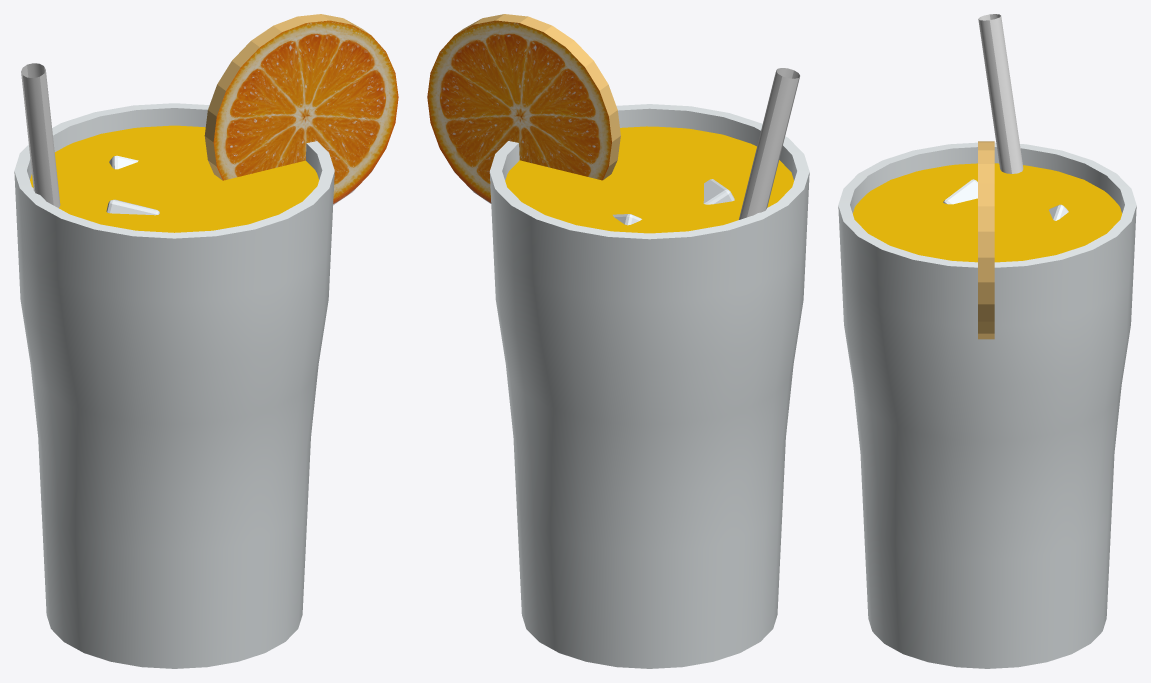
The model's file is glass_orange.fbx.
3 renders of one model, left to right at view 1: azimuth 30°, elevation 25°; view 2: azimuth 150°, elevation 25°; view 3: azimuth 270°, elevation 25°, orthographic. The views are drawn at different scales.
Parts seen in each view (by area): view 1: glass, deco_orange, smoothie, straw, ice; view 2: glass, deco_orange, smoothie, straw, ice; view 3: glass, smoothie, straw, deco_orange, ice.
Boxes of the visible parts, x1,y1,x2,y2 form: glass: [14, 103, 334, 668]; deco_orange: [204, 14, 398, 204]; smoothie: [30, 125, 319, 232]; straw: [21, 63, 60, 208]; ice: [106, 155, 159, 215]; glass: [489, 104, 809, 668]; deco_orange: [427, 14, 620, 203]; smoothie: [505, 126, 793, 233]; straw: [739, 68, 799, 219]; ice: [613, 179, 734, 225]; glass: [838, 142, 1136, 668]; smoothie: [853, 163, 1121, 262]; straw: [978, 14, 1023, 173]; deco_orange: [978, 141, 994, 339]; ice: [943, 179, 1068, 220].
Bounding box in the file's own units: 120 × 180 × 90.
Materials: 6 (1 with a texture image).
